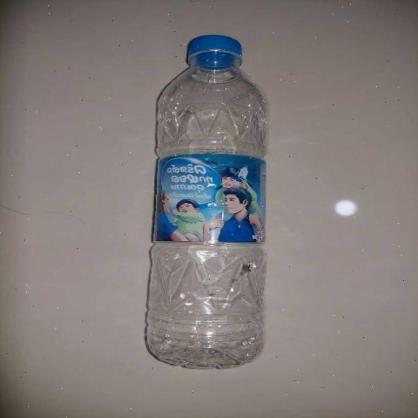bottle: (142, 34, 269, 370)
cap: (183, 34, 246, 65)
label: (148, 155, 267, 246)
